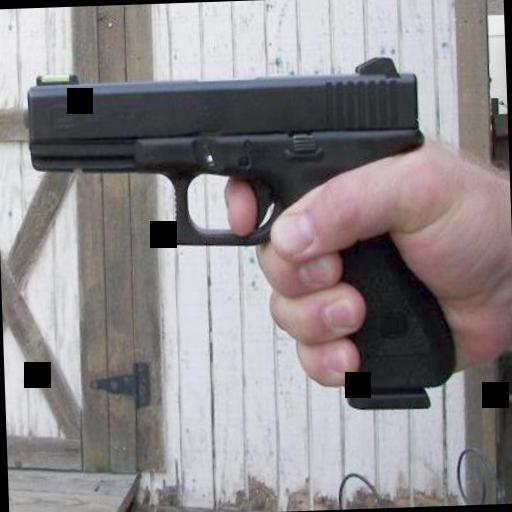Handgun: (20, 55, 456, 422)
